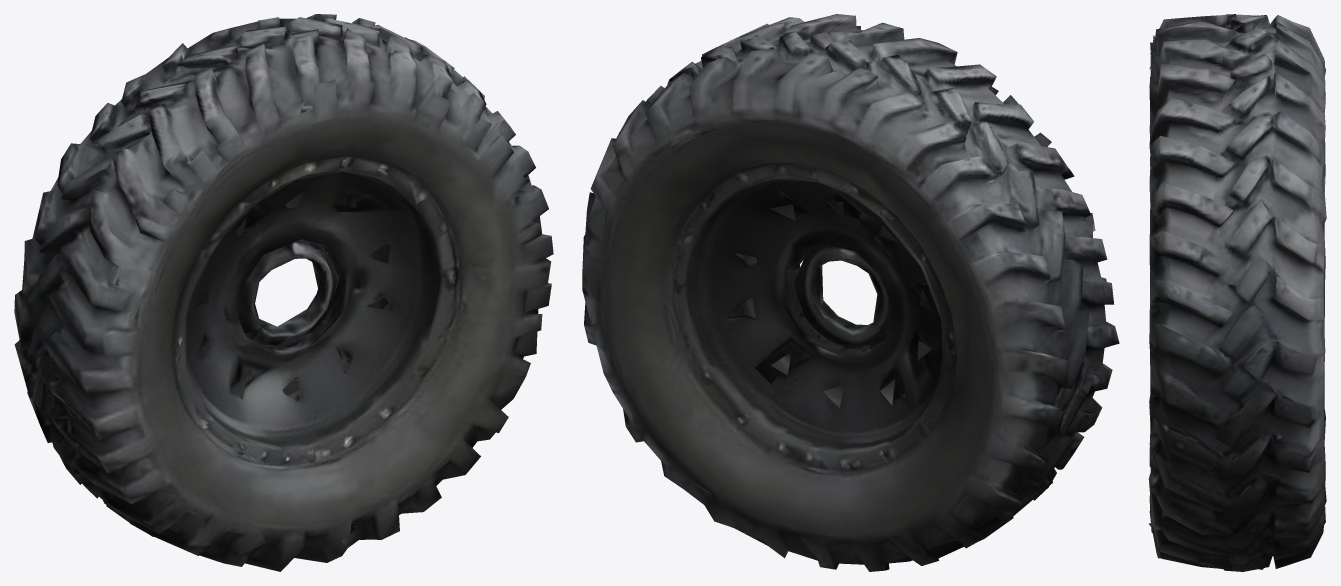
3 views of the same model, side by side, from view 1: azimuth 30°, elevation 25°; view 2: azimuth 150°, elevation 25°; view 3: azimuth 270°, elevation 25° (orthographic).
Parts seen in each view (by area): view 1: tripo_node_ee706867-5797-43d8-93a5-2a9f95d33cab; view 2: tripo_node_ee706867-5797-43d8-93a5-2a9f95d33cab; view 3: tripo_node_ee706867-5797-43d8-93a5-2a9f95d33cab.
Part boxes in pixels (x1,y1,x2,y2): tripo_node_ee706867-5797-43d8-93a5-2a9f95d33cab: (14,14,553,571); tripo_node_ee706867-5797-43d8-93a5-2a9f95d33cab: (582,14,1119,571); tripo_node_ee706867-5797-43d8-93a5-2a9f95d33cab: (1148,14,1326,571).
Bounding box in the file's own units: 0.976 × 0.9799 × 0.3139.
1 material, 1 textured.
